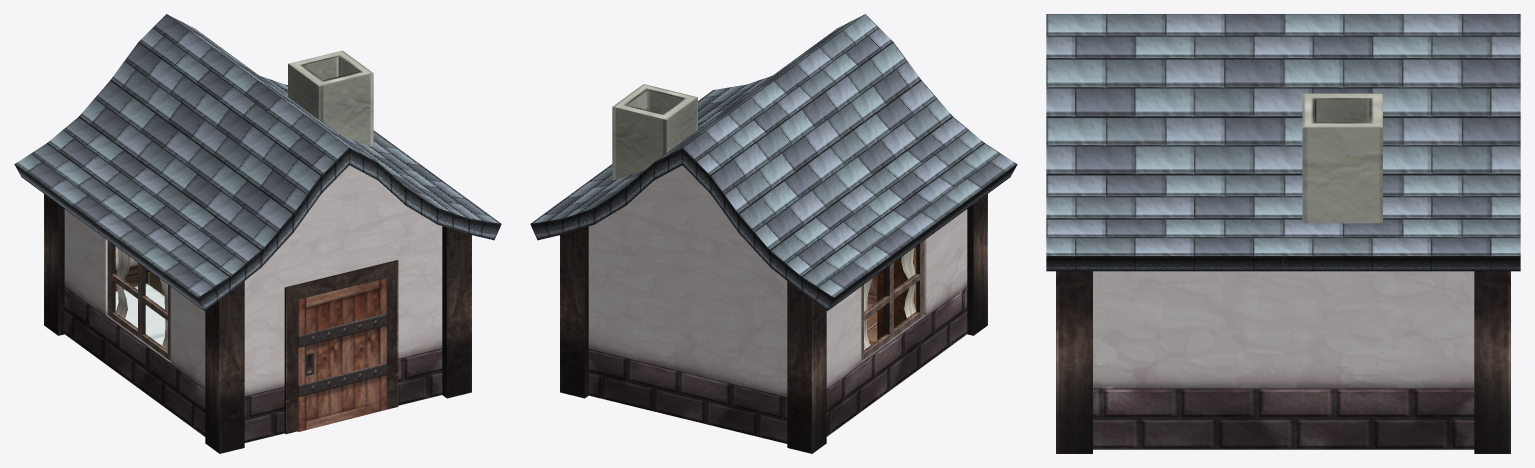
The model's file is M13_house03.fbx.
The picture shows the model from 3 angles, left to right: view 1: azimuth 30°, elevation 25°; view 2: azimuth 150°, elevation 25°; view 3: azimuth 270°, elevation 25°; orthographic projection. The views are drawn at different scales.
Visible parts, largest first — view 1: ceiling, room, door; view 2: room, ceiling; view 3: ceiling, room.
Part boxes in pixels (bbox=[...]): ceiling: bbox=[14, 14, 501, 310]; room: bbox=[44, 165, 471, 453]; door: bbox=[297, 278, 386, 431]; room: bbox=[560, 165, 987, 453]; ceiling: bbox=[530, 14, 1017, 310]; ceiling: bbox=[1046, 14, 1520, 271]; room: bbox=[1056, 271, 1510, 453].
Bounding box in the file's own units: 40.54 × 35.38 × 42.19.
